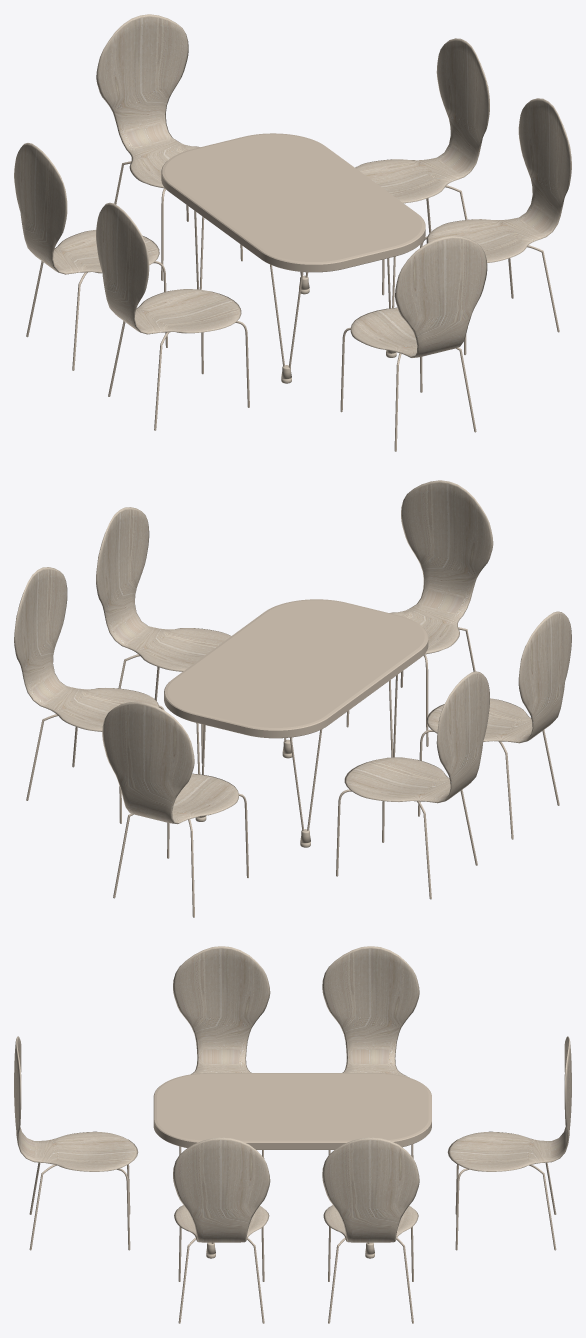
Rendered from dining table2.obj.
3 renders of one model, top to bottom at view 1: azimuth 30°, elevation 25°; view 2: azimuth 150°, elevation 25°; view 3: azimuth 270°, elevation 25°, orthographic. The views are drawn at different scales.
Visible parts, largest first — view 1: 408d0c7ecb76a9c92ed46680605b0b513b5203c9; view 2: 408d0c7ecb76a9c92ed46680605b0b513b5203c9; view 3: 408d0c7ecb76a9c92ed46680605b0b513b5203c9.
Part boxes in pixels (x1,y1,x2,y2): 408d0c7ecb76a9c92ed46680605b0b513b5203c9: (14,14,571,451); 408d0c7ecb76a9c92ed46680605b0b513b5203c9: (14,480,571,917); 408d0c7ecb76a9c92ed46680605b0b513b5203c9: (14,946,571,1323).
Bounding box in the file's own units: 245 × 113 × 298.
